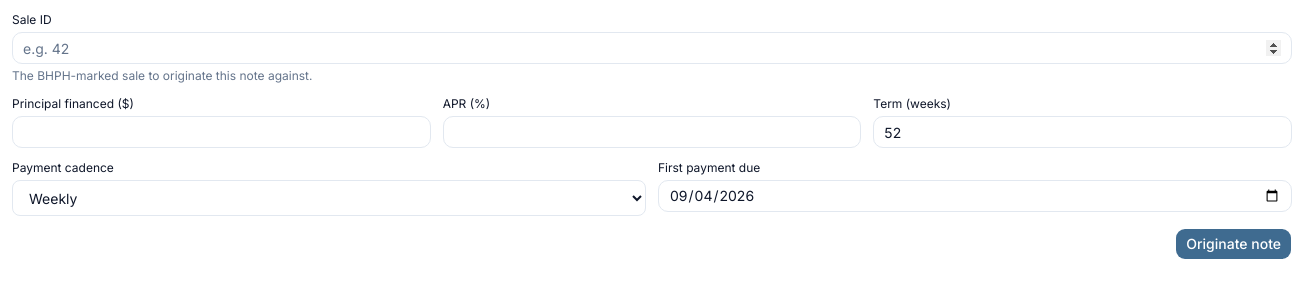
Test case: RecordBhphNoteForm › surfaces a backend 409 duplicate as a human-readable error
Type "42" into the number field with test id "record-bhph-note-sale-id". click: (652, 48)
box: [12,32,1292,64]
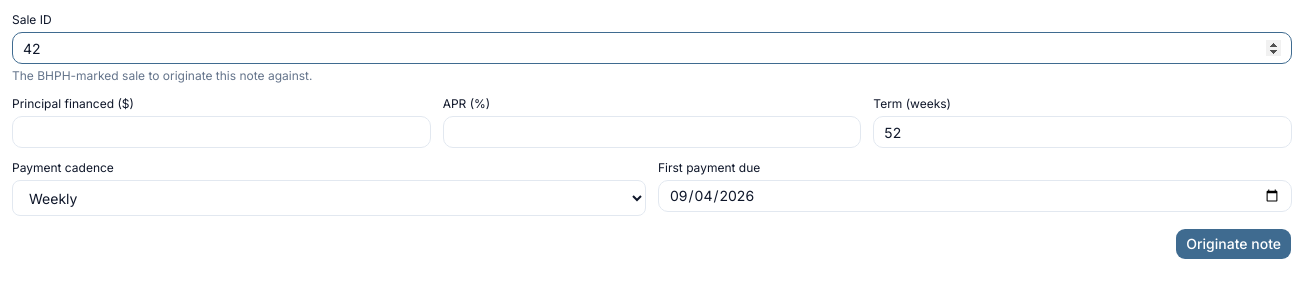
Type "5000" into the number field with test id "record-bhph-note-principal". click: (221, 132)
box: [12,116,431,148]
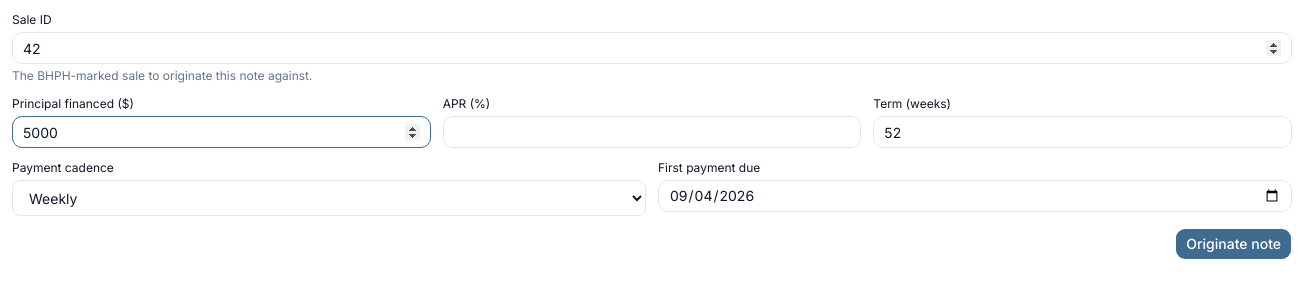
Type "18.5" into the number field with test id "record-bhph-note-apr". click: (652, 132)
box: [443,116,861,148]
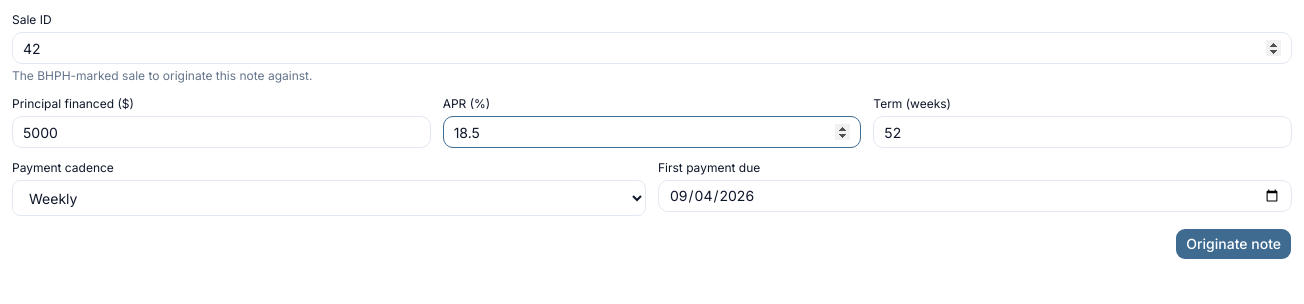
Click the button with test id "record-bhph-note-submit". click: (1234, 244)
box: [1175,228,1292,260]
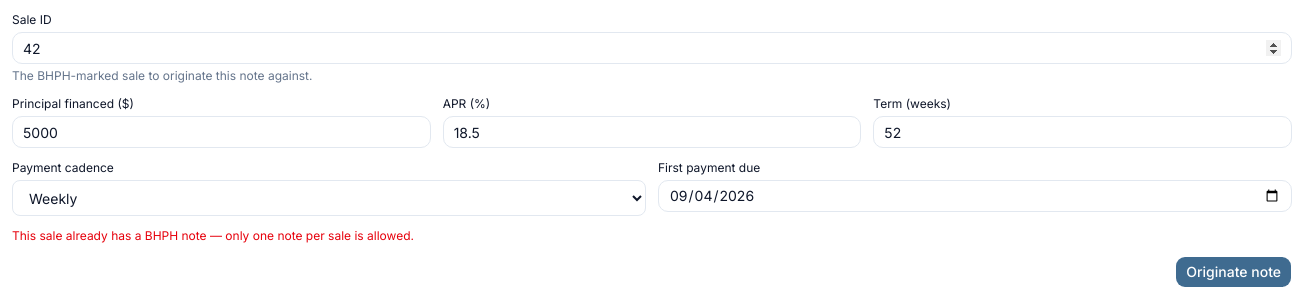
Check: the message with test id "record-bhph-note-error" shows "already has a BHPH note", box [12,228,414,243]
